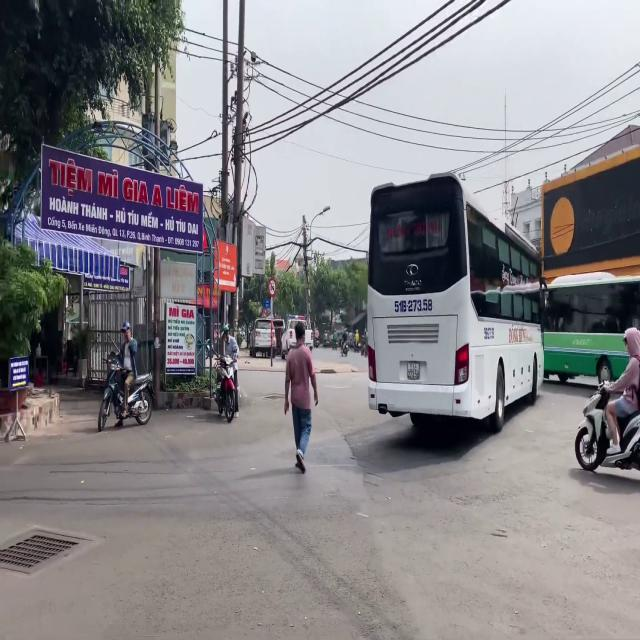bien_trang: (406, 359, 421, 381)
